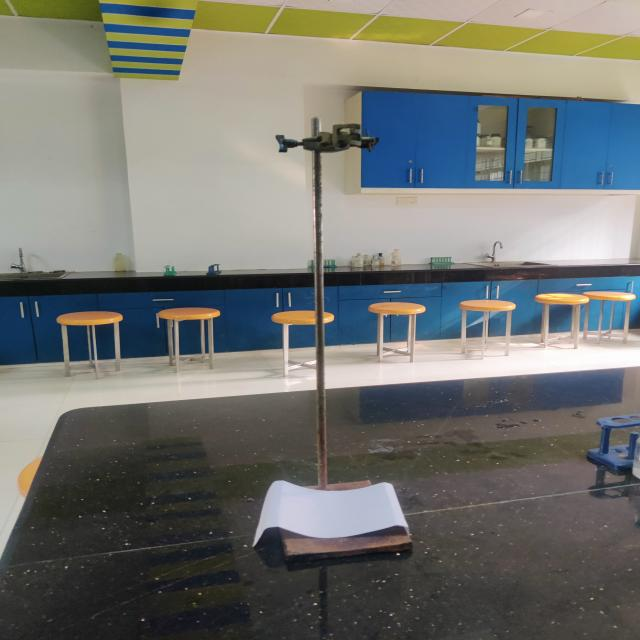Burette_Stands: (231, 100, 457, 586)
